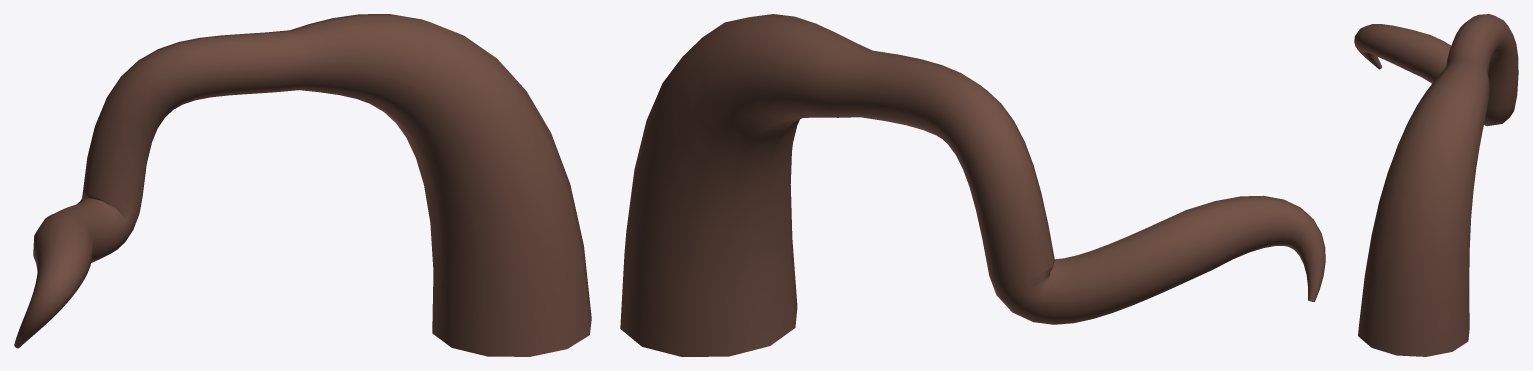
File: Eden_Environment_001_TreeTrunks_001_Rig.fbx
3 renders of one model, left to right at view 1: azimuth 30°, elevation 25°; view 2: azimuth 150°, elevation 25°; view 3: azimuth 270°, elevation 25°, orthographic. The views are drawn at different scales.
Parts seen in each view (by area): view 1: BezierCurve.Trunk.005; view 2: BezierCurve.Trunk.005; view 3: BezierCurve.Trunk.005.
Part boxes in pixels (x1=…): BezierCurve.Trunk.005: x1=14, y1=14, x2=591, y2=356; BezierCurve.Trunk.005: x1=620, y1=14, x2=1325, y2=356; BezierCurve.Trunk.005: x1=1354, y1=14, x2=1518, y2=356.
Bounding box in the file's own units: 962 × 497 × 330.
